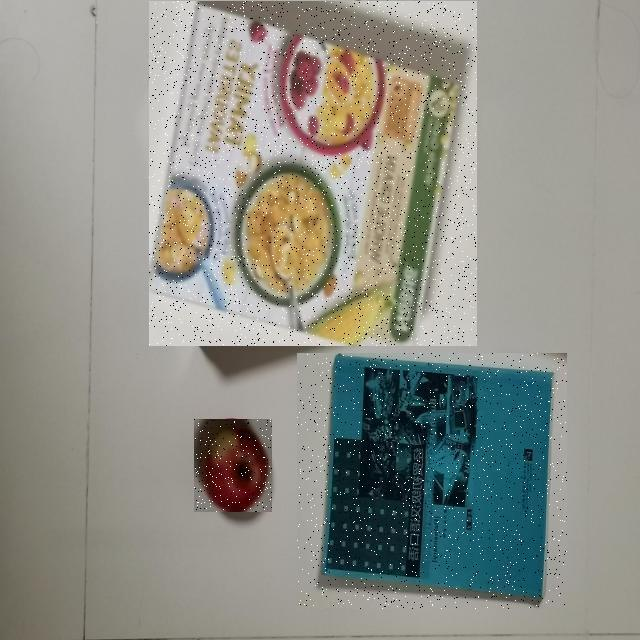Apple: (194, 419, 272, 512)
Book: (297, 353, 567, 609)
Cereal: (149, 1, 477, 346)
